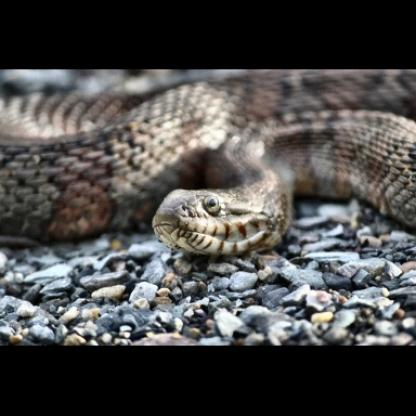Snake: (0, 75, 415, 335)
